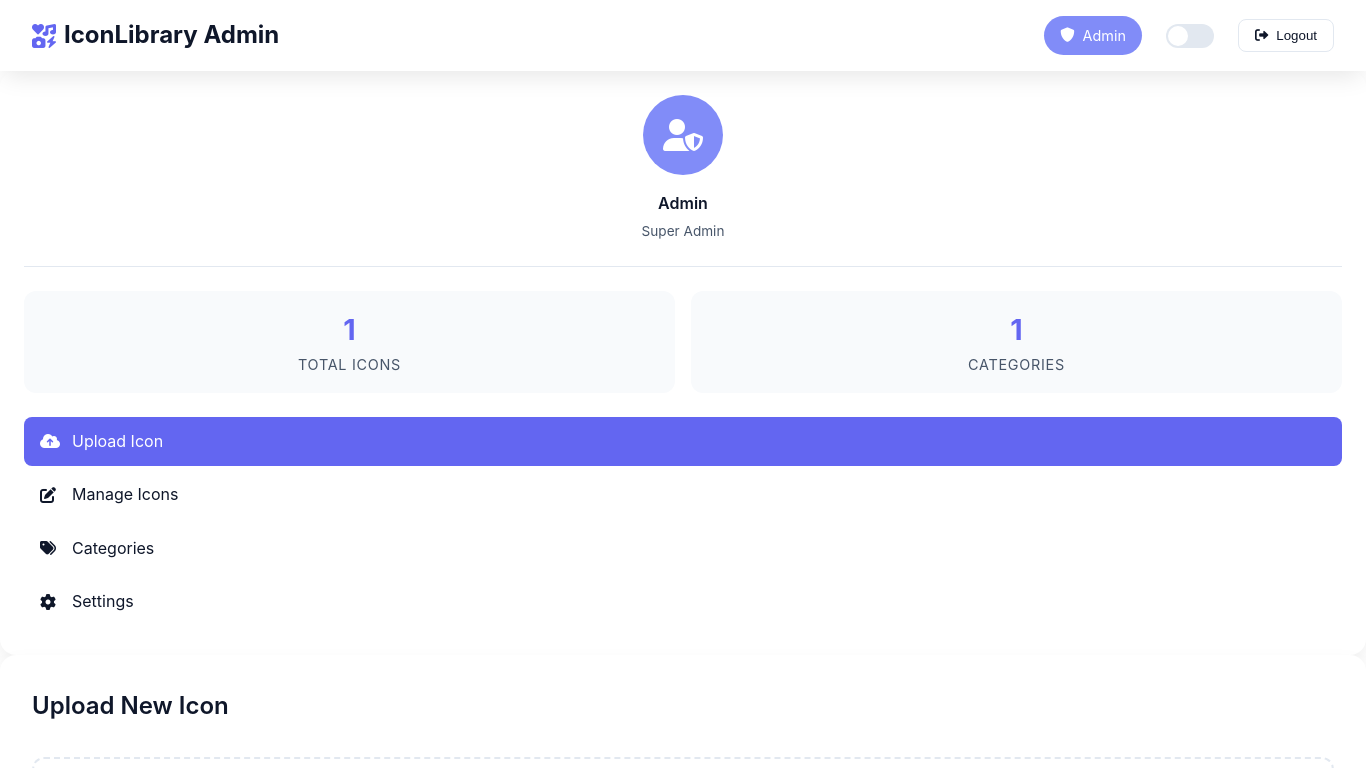
Test: AdminPanel category management › handles network failure during add
This screenshot has width=1366, height=768.
Click the 2nd text "Categories".
click(113, 548)  # box x1=72 y1=536 x2=154 y2=561
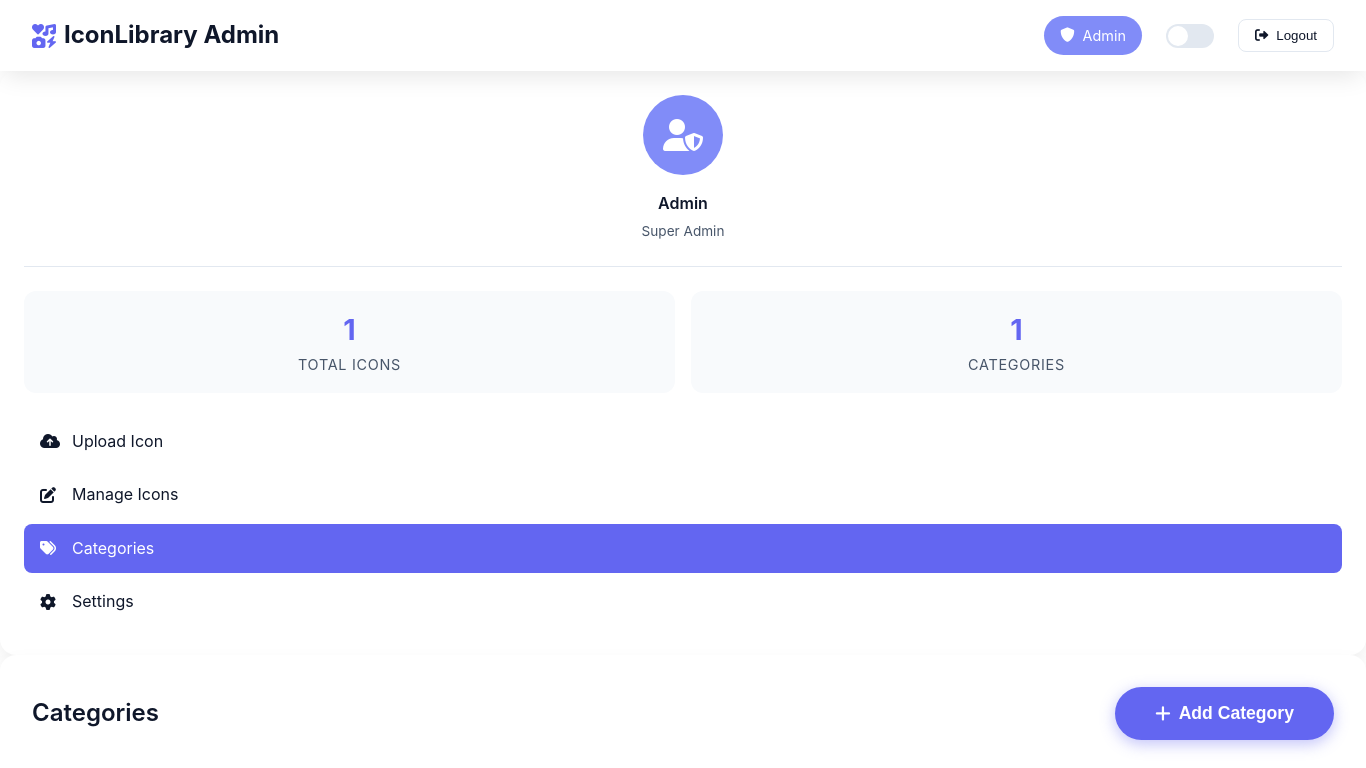
Click the button "Add Category".
click(1225, 713)  # box x1=1115 y1=687 x2=1334 y2=740
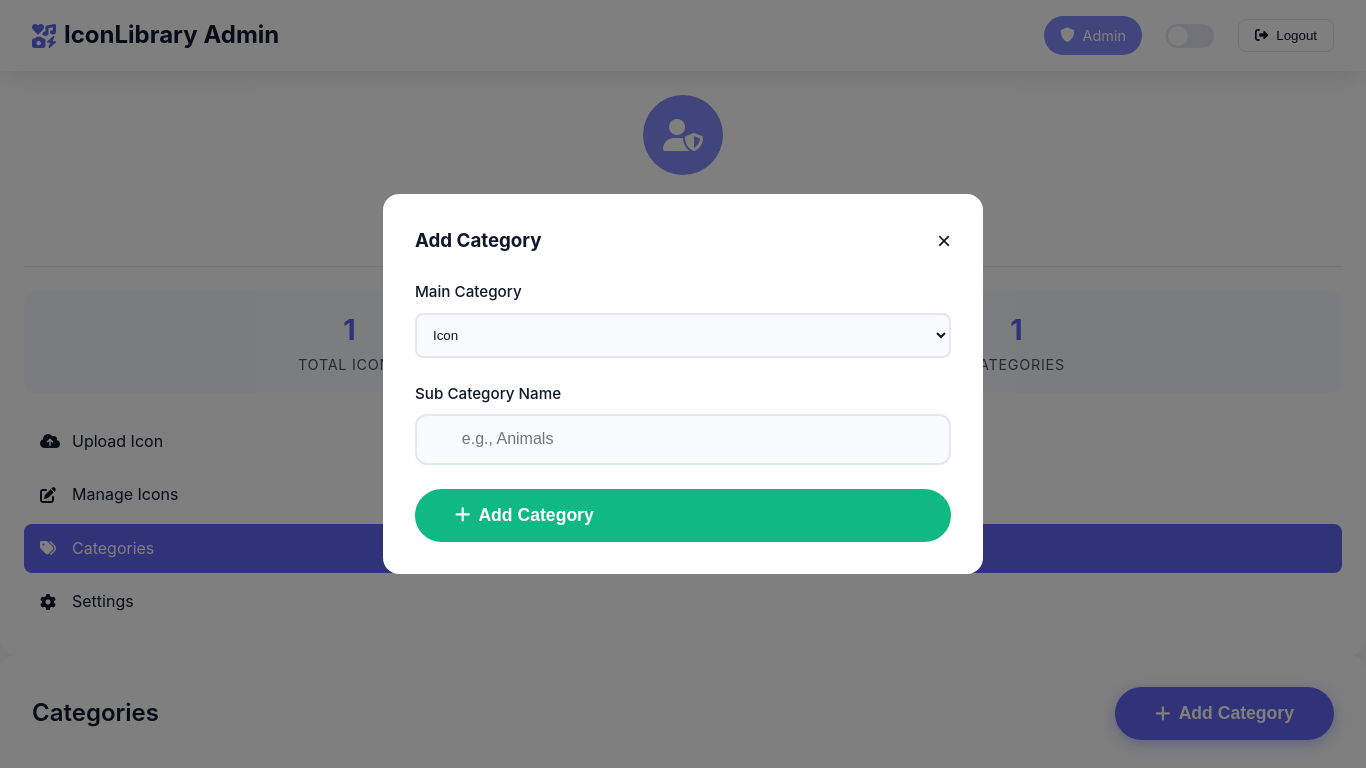
Type "Animals" into the field with placeholder "e.g., Animals".
click(683, 439); type("Animals")  # box x1=415 y1=414 x2=951 y2=465
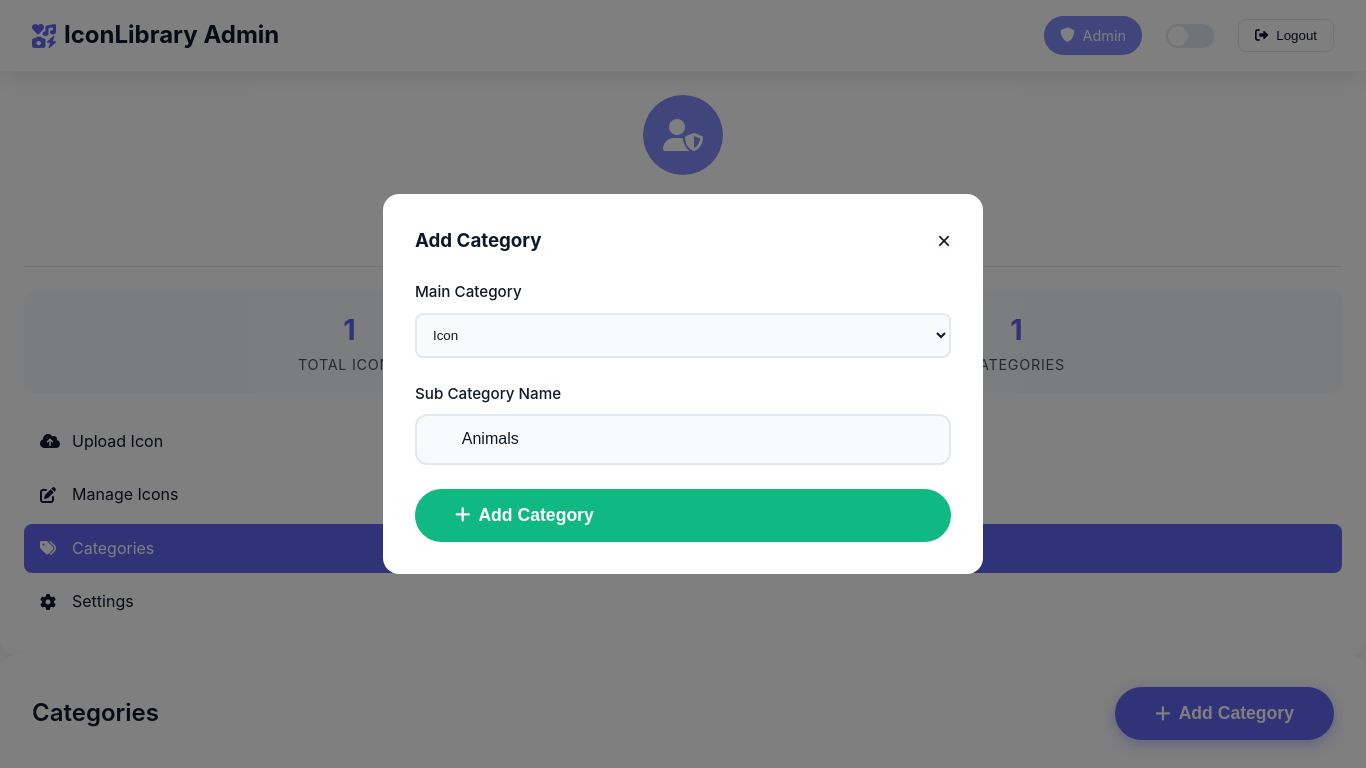
Click the button with class "btn-success".
click(536, 515)  # box x1=415 y1=489 x2=951 y2=542
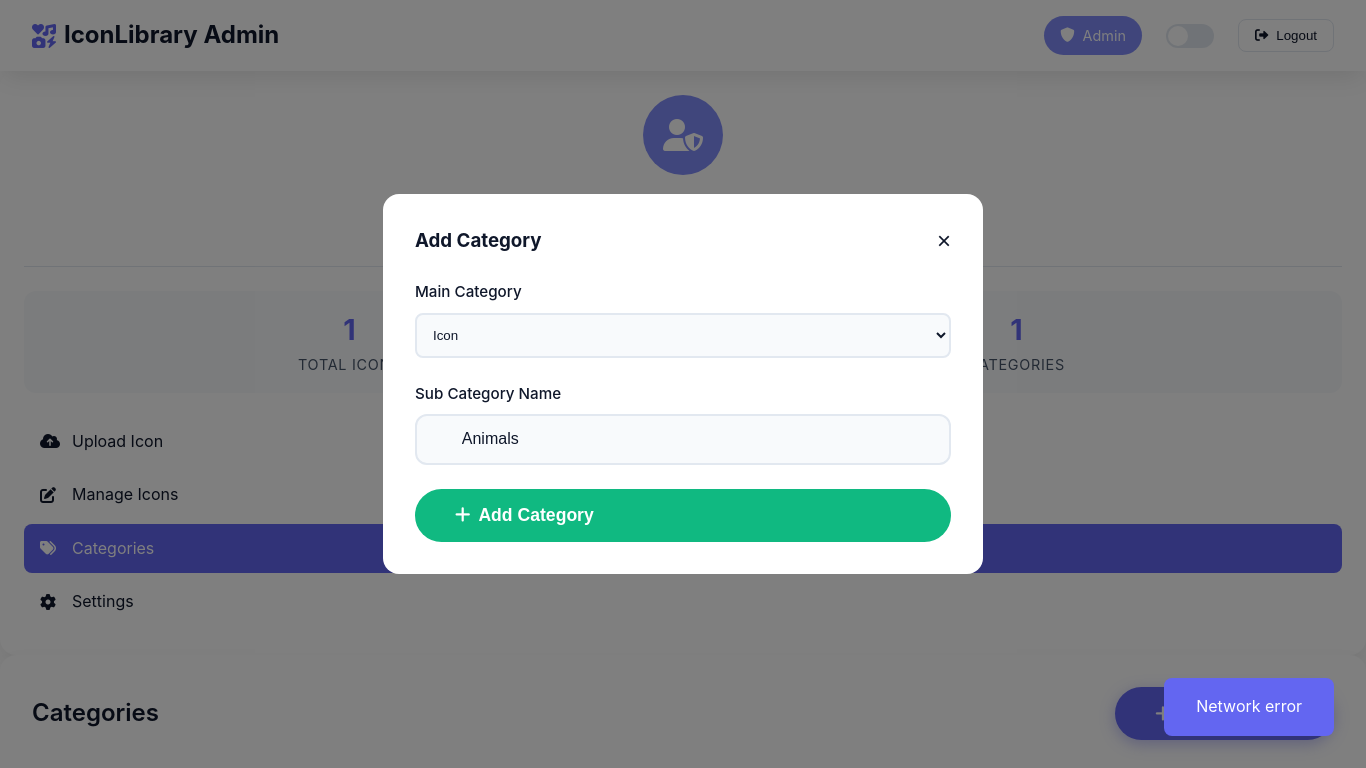
Expected: the text "Network error" is shown, x1=1164 y1=678 x2=1334 y2=736
